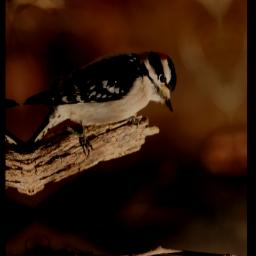Woodpecker: (19, 43, 189, 165)
